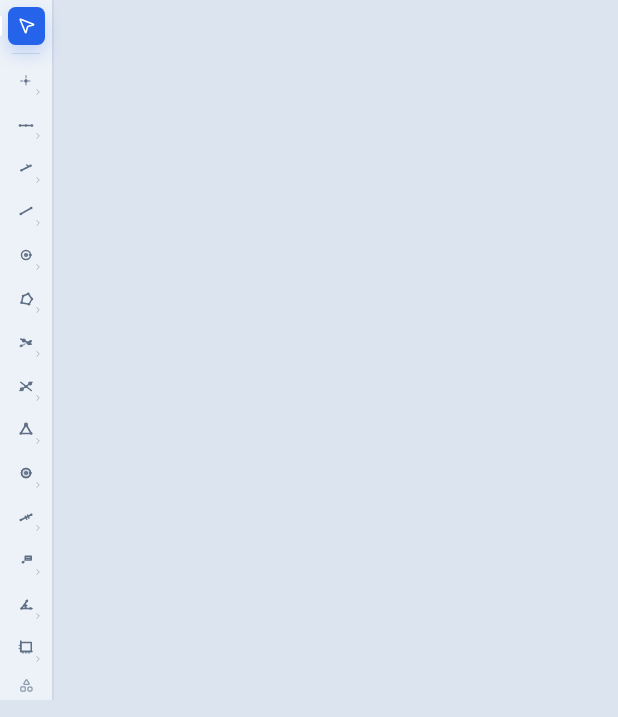
it: Toolbar groups › localizes toolbar groups and tool labels in Italian
Step 1. Click the button named "Strumenti: Punti" → [26, 81], box [8,62,45,99]
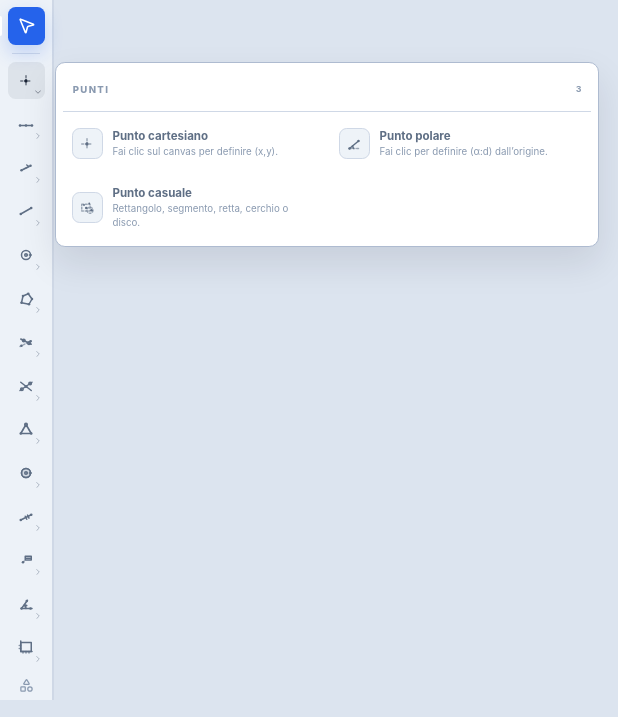
Now the menu "Punti" is shown, box [55,62,599,247]
Now the menu item "Punto cartesiano Fai clic sul canvas per definire (x,y)." is shown, box [63,117,324,170]
